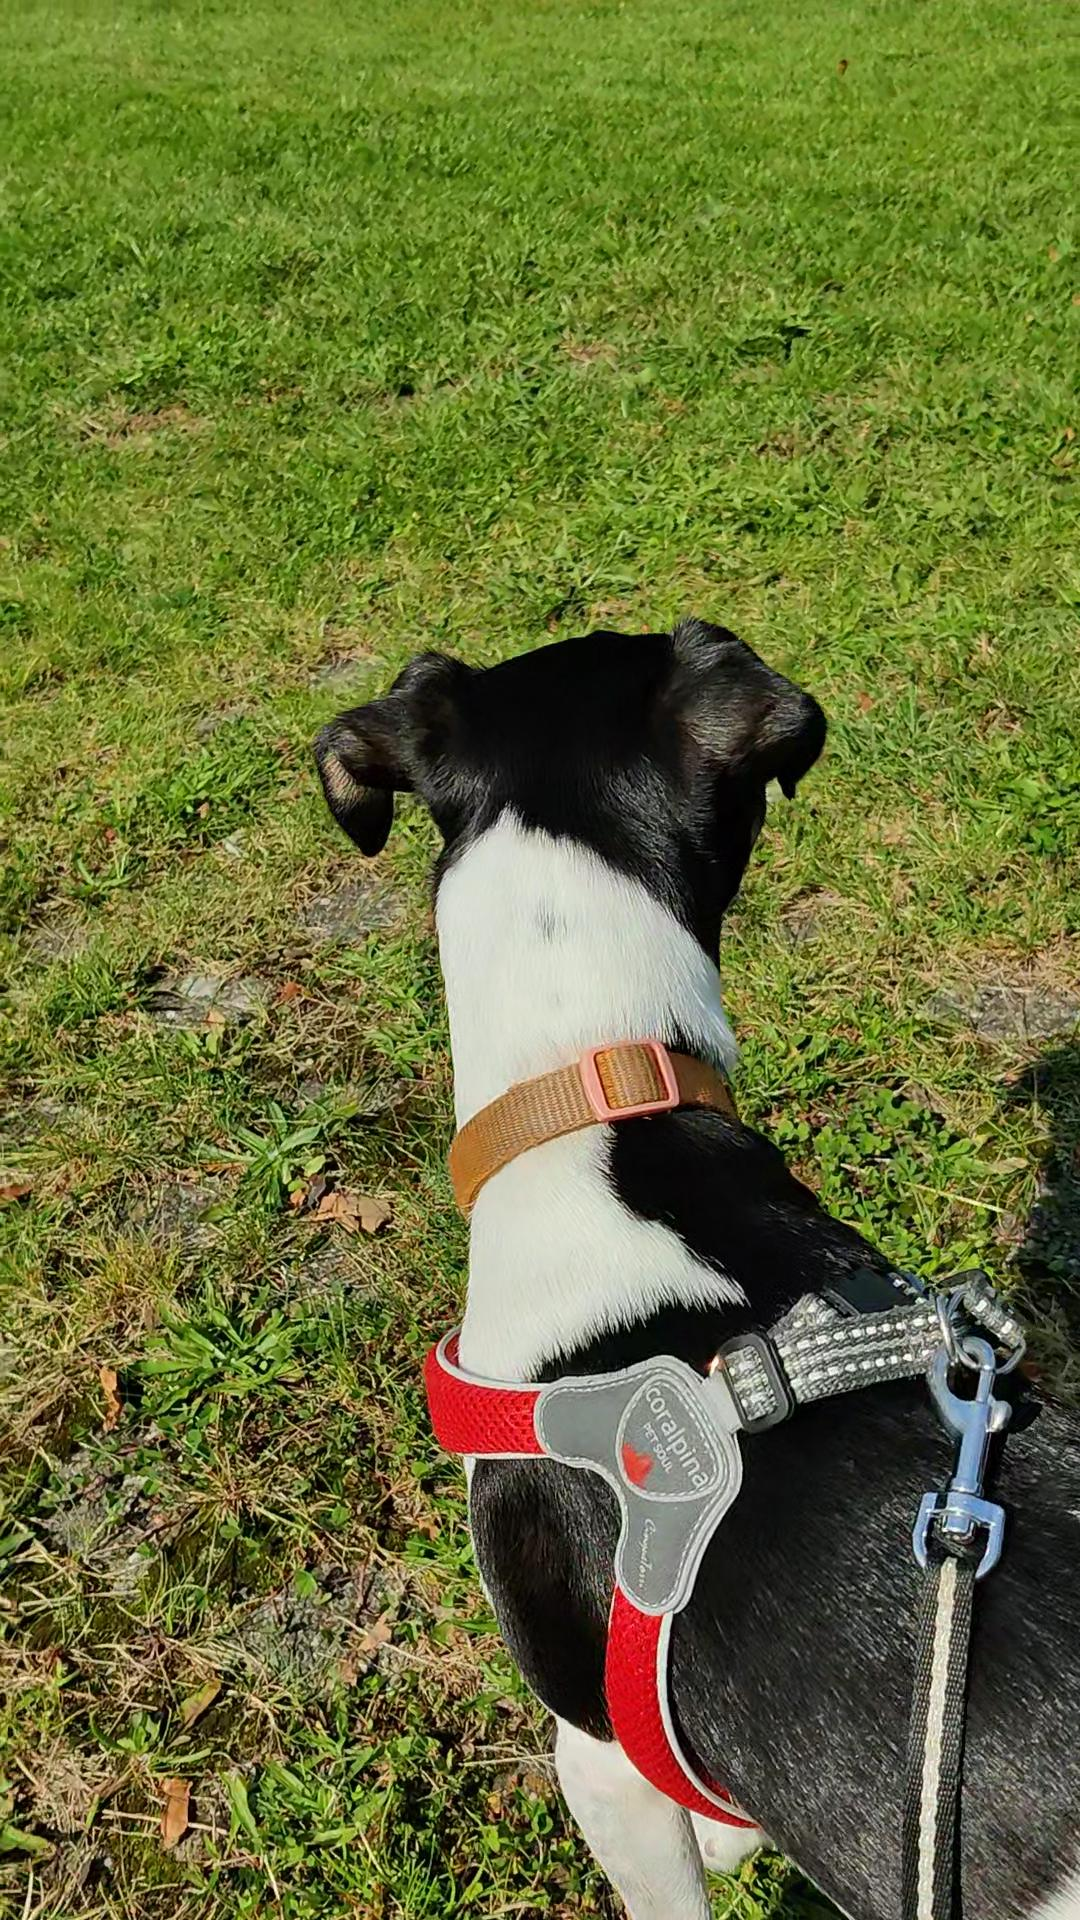Dog: (276, 585, 1079, 1919)
